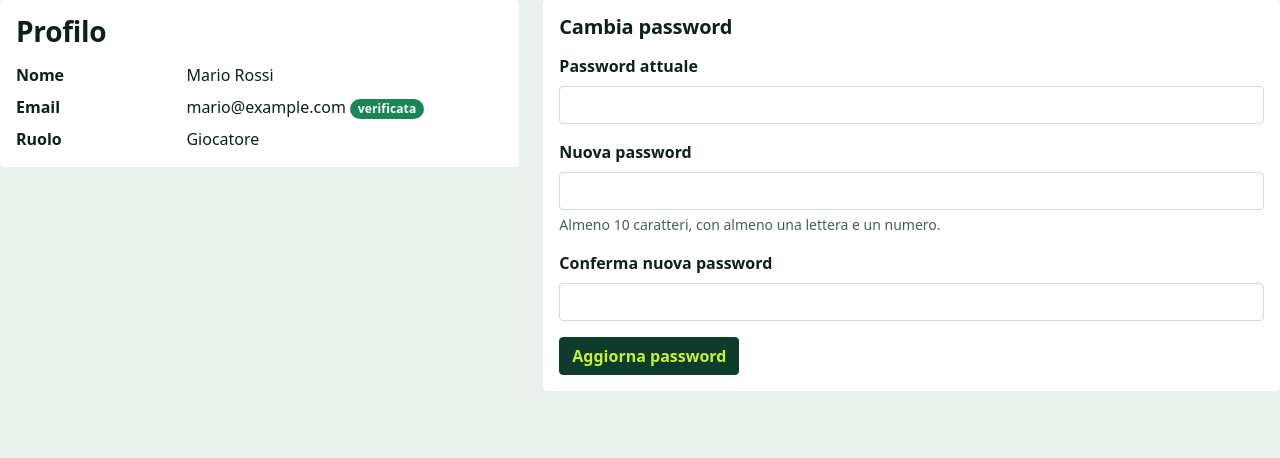
Test: ProfilePage › controlla le regole della password prima di chiamare il server
Type "corta" into the password field labelled "Nuova password" at (912, 191), box [559,172,1264,210]
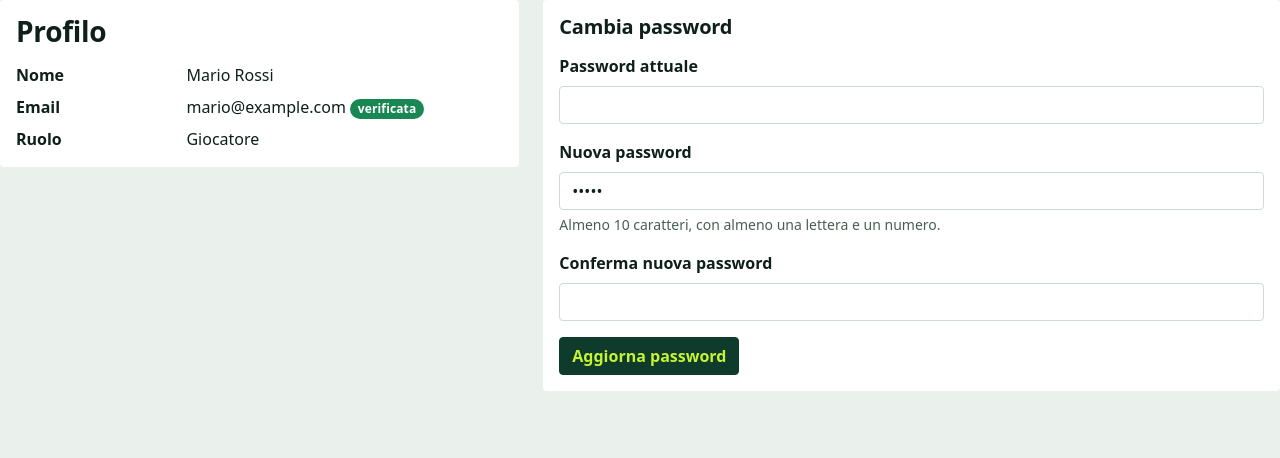
Type "diversa" into the password field labelled "Conferma nuova password" at (912, 302), box [559,283,1264,321]
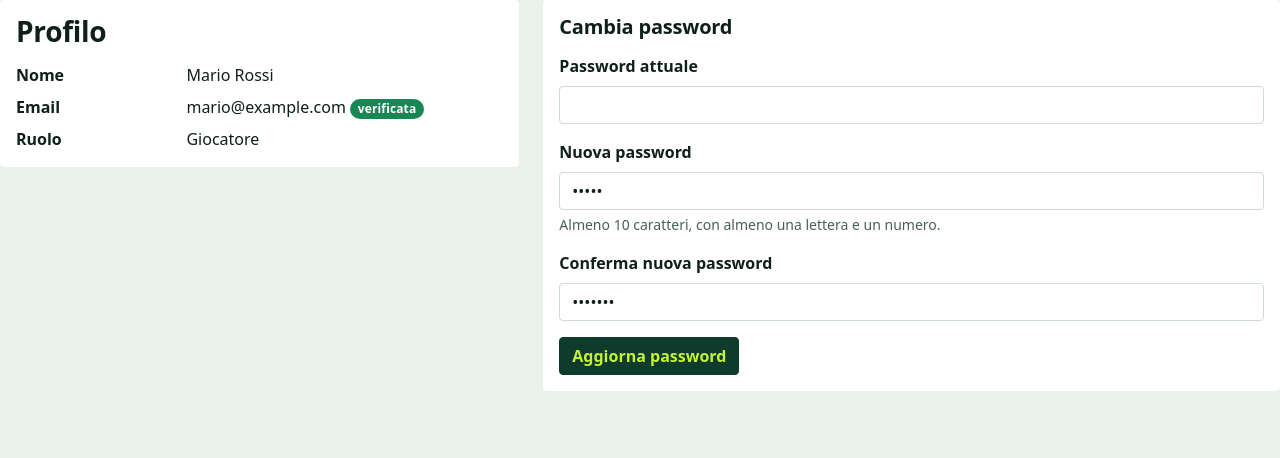
Click the button "Aggiorna password" at (649, 356), box [559,337,739,375]
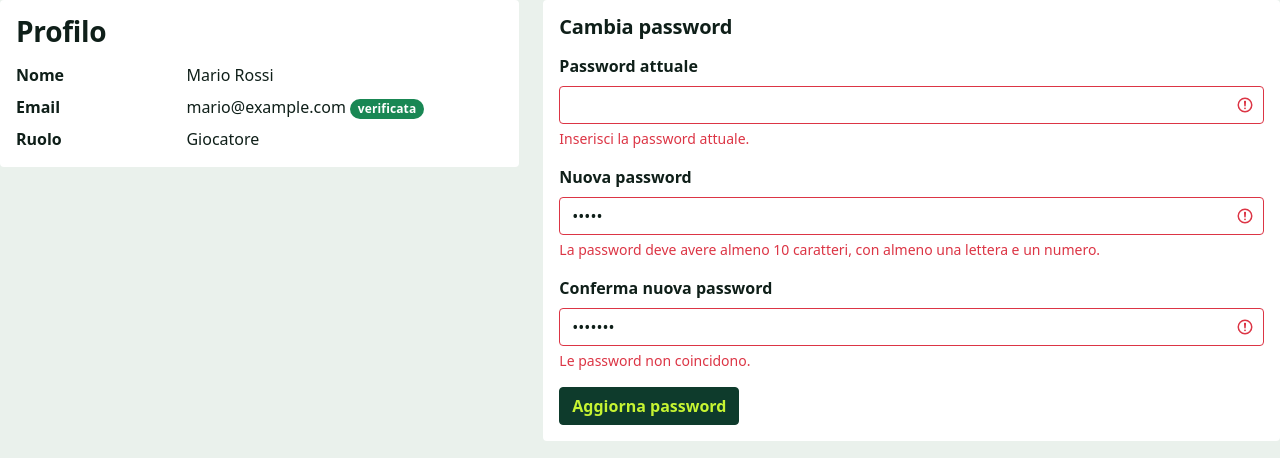
Expected: the text "Inserisci la password attuale." is shown, [559,129,749,148]
Expected: the text "almeno 10 caratteri" is shown, [559,240,1100,259]
Expected: the text "Le password non coincidono." is shown, [559,351,750,370]
